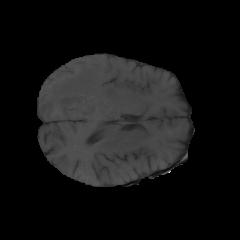glioma: (41, 67, 116, 119)
